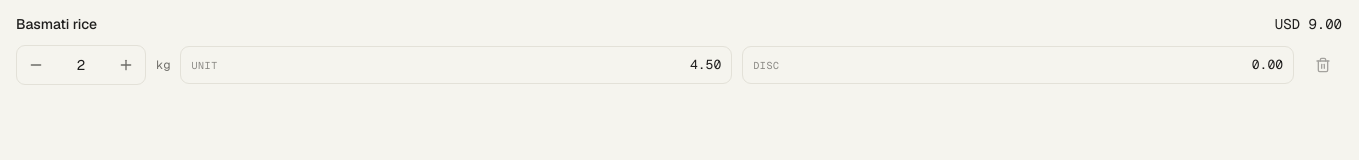
Test: CartLineRow — price and discount › takes a discount as an AMOUNT and shows what the line is worth
This screenshot has width=1359, height=160.
Replace the text in the field named "discount on" with "1": [1035, 65] box [788, 55, 1283, 75]
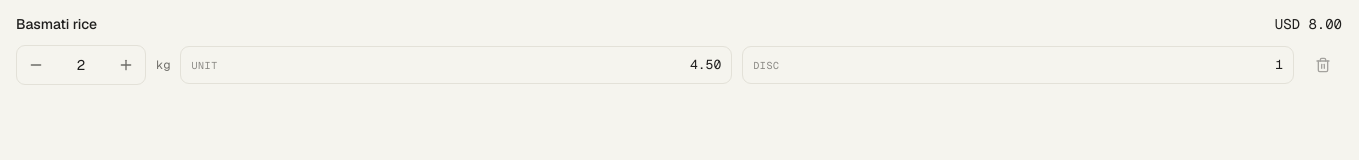
Now the text "USD 8.00" is shown, box [1275, 14, 1342, 35]
